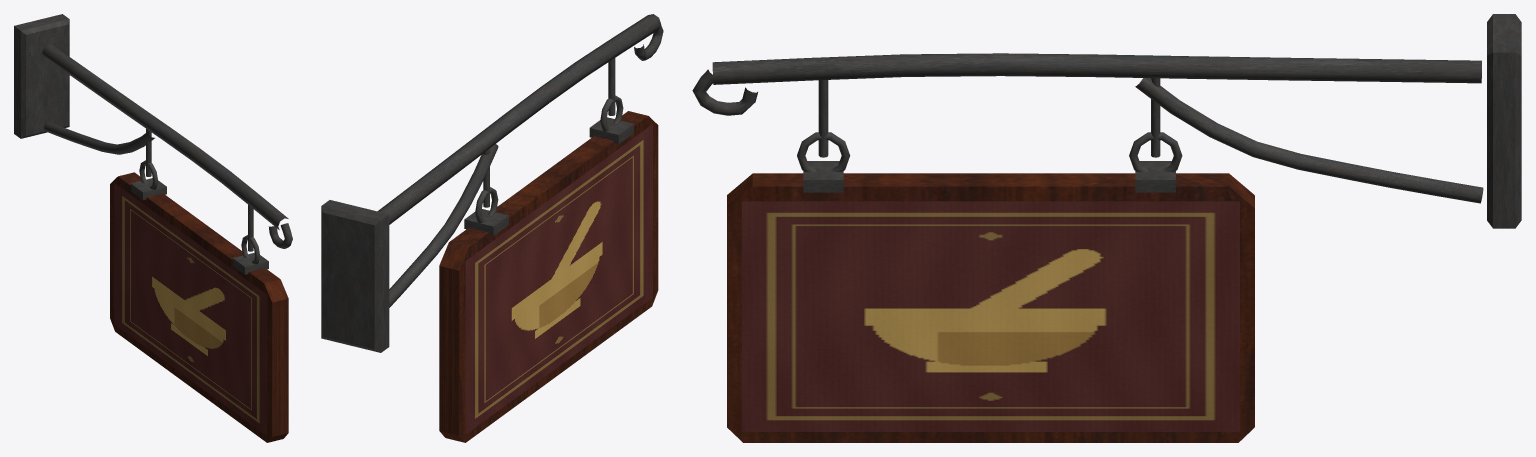
Rendered from city1880-hanging-sign-apothecary.gltf.
3 renders of one model, left to right at view 1: azimuth 30°, elevation 25°; view 2: azimuth 150°, elevation 25°; view 3: azimuth 270°, elevation 25°, orthographic. The views are drawn at different scales.
Visible parts, largest first — view 1: Hanging shop sign · mortar and pestle; view 2: Hanging shop sign · mortar and pestle; view 3: Hanging shop sign · mortar and pestle.
Boxes of the visible parts, <box> form: Hanging shop sign · mortar and pestle: <box>14,14,292,442</box>; Hanging shop sign · mortar and pestle: <box>321,14,663,442</box>; Hanging shop sign · mortar and pestle: <box>692,14,1521,442</box>.
Size of the model in its own units: 0.106 by 0.5155 by 0.9609.
2 materials, 2 textured.
